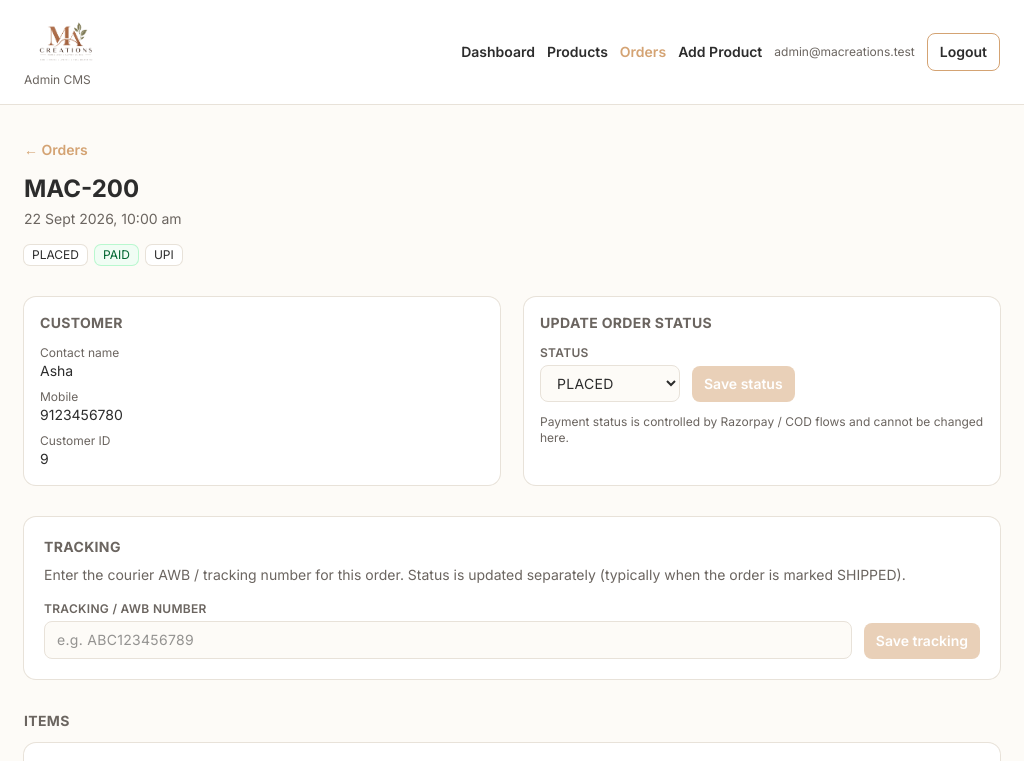
Admin order pages › shows detail and updates status
expect the text "Payment status is controlled by Razorpay" is shown: met, box [540,414,983,445]
Select "PROCESSING" in the dropdown labelled "Status" at (610, 384), box [540,365,680,402]
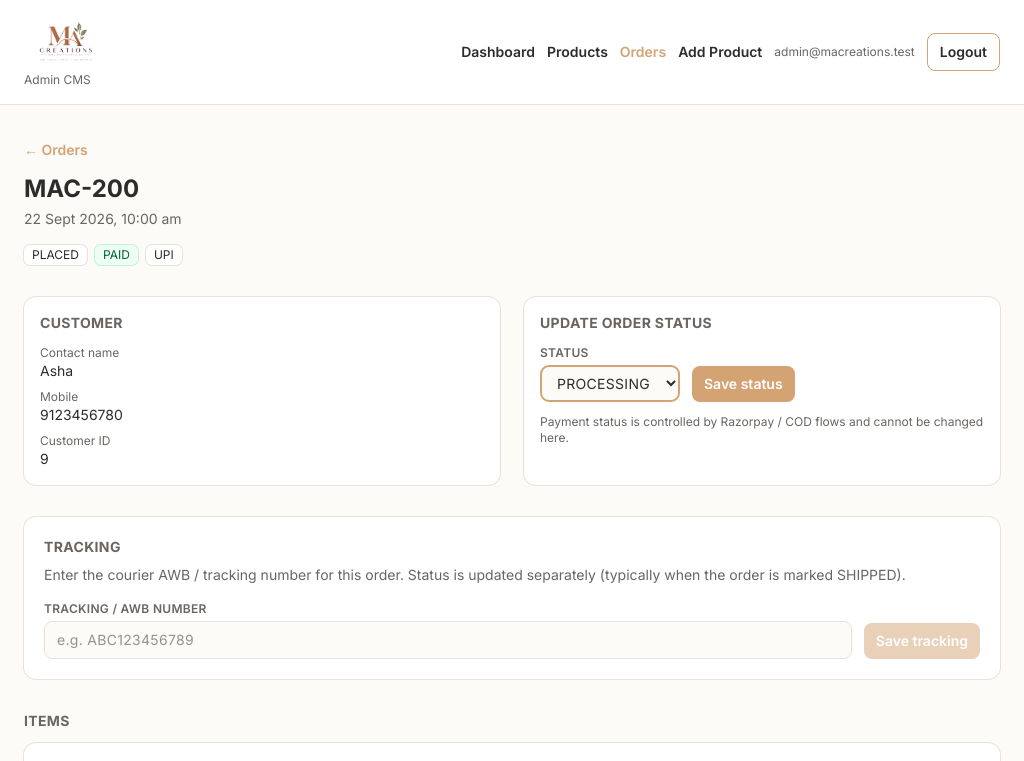
Click the button "Save status" at (743, 384), box [692,366,795,402]
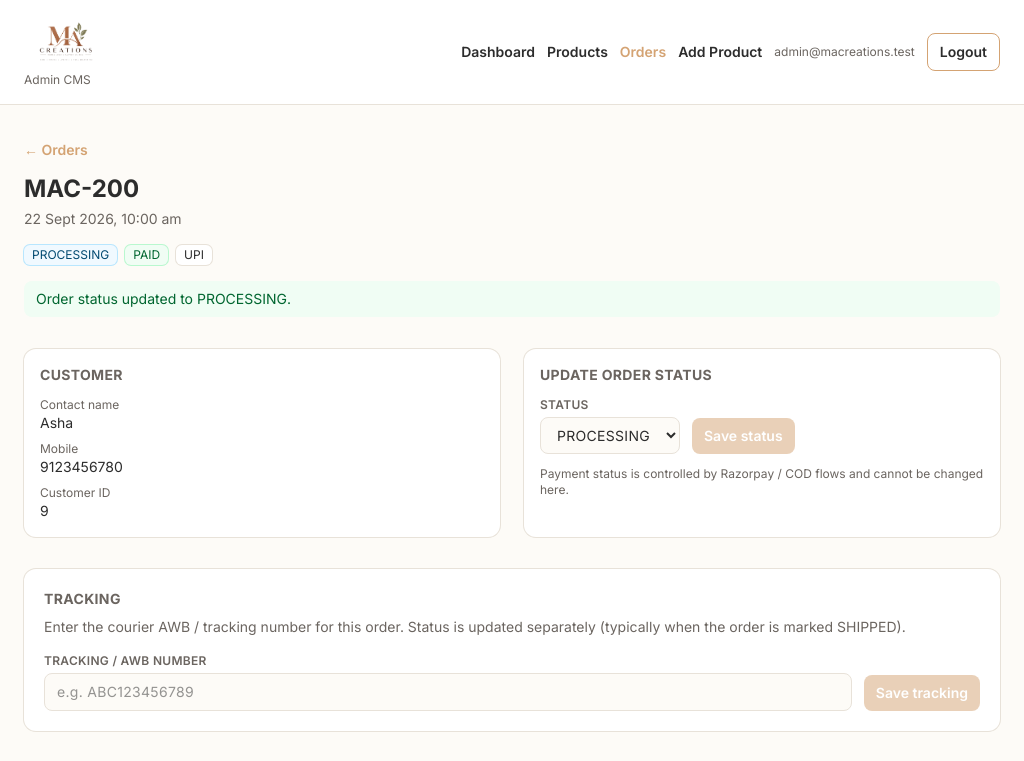
expect the text "Order status updated to PROCESSING." is shown: met, box [24,281,1000,317]
